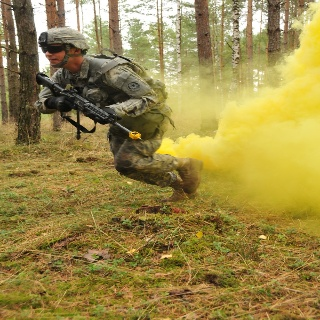rifle: (33, 71, 147, 145)
